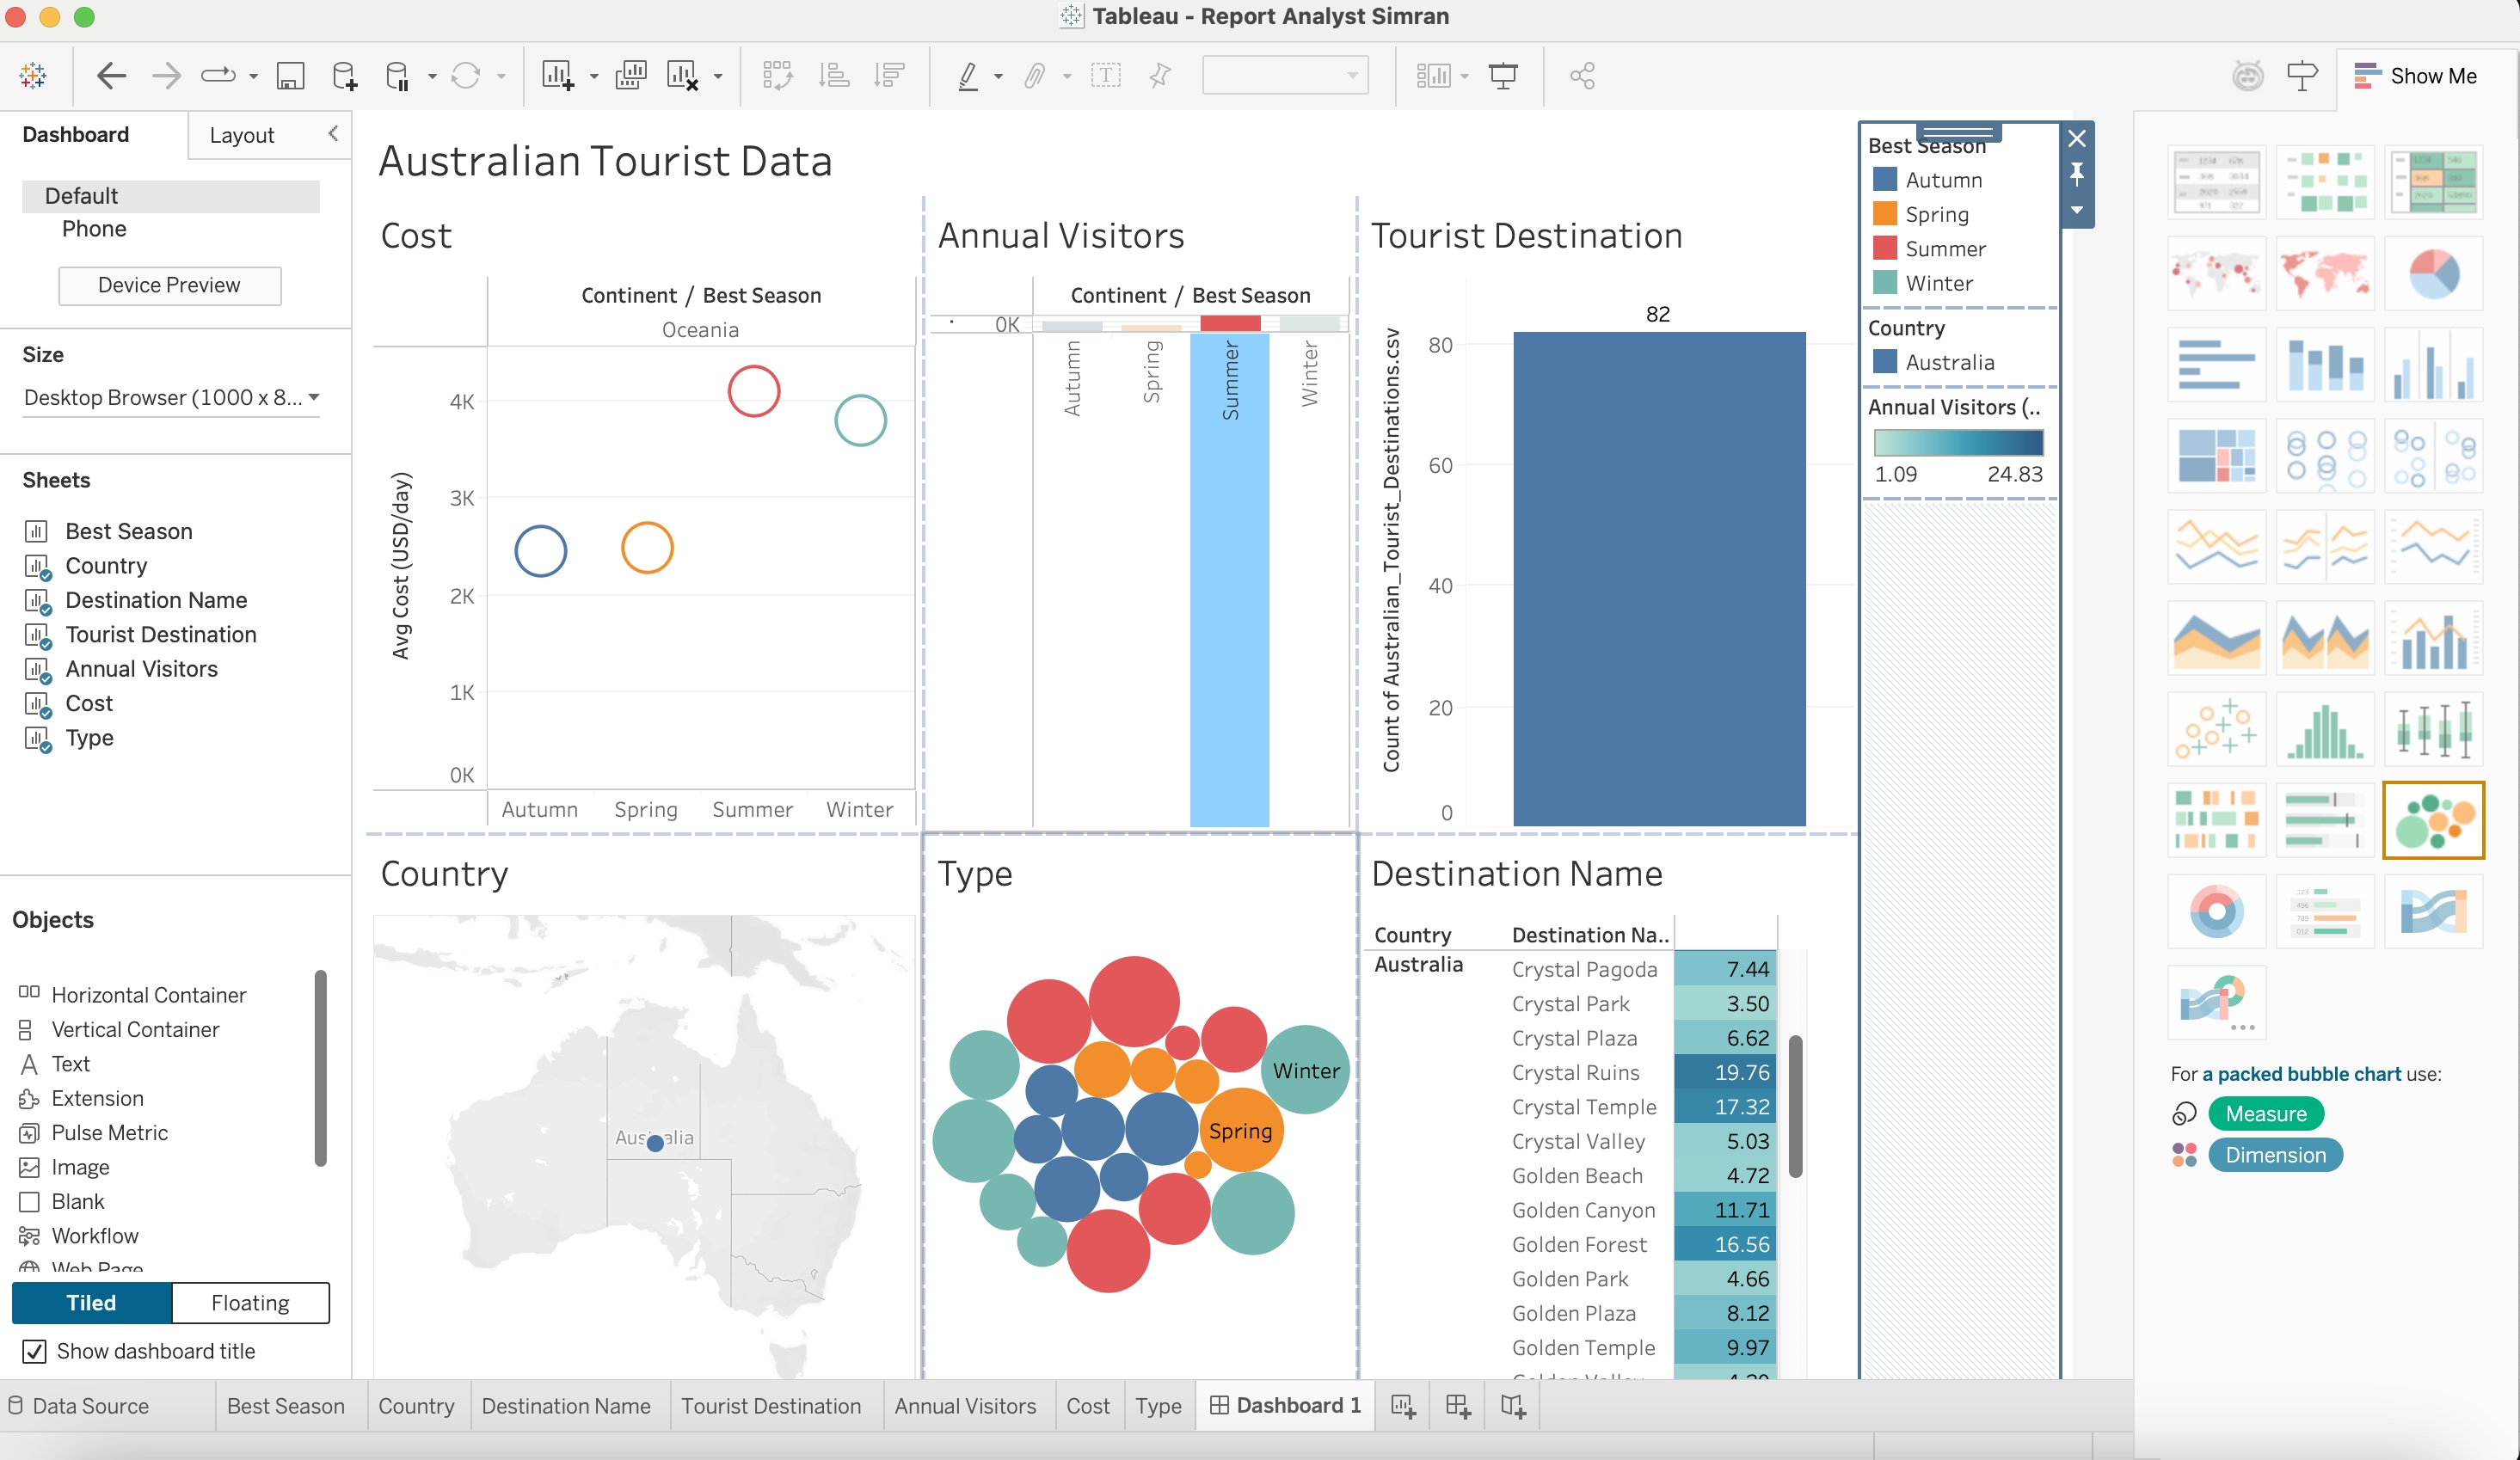

The dashboard page shown, as its layout file describes it:
{"tool":"tableau","page":{"name":"Dashboard 1","canvas":[1000,800],"ordinal":0},"visuals":[{"type":"title","box":[8,8,869,42]},{"type":"legend","title":"Cost","param":"[federated.0lczpgn17tdd761f2p9650y1xuqt].[none:Best Season:nk]","box":[877,8,115,106]},{"type":"worksheet","title":"Cost","mark":"Shape","rows":["Avg Cost (USD/day)"],"cols":["Continent","Best Season"],"box":[8,50,323.8,371]},{"type":"worksheet","title":"Annual Visitors","mark":"Automatic","rows":["Annual Visitors (M)"],"cols":["Continent","Best Season"],"box":[331.8,50,252.1,371]},{"type":"worksheet","title":"Tourist Destination","mark":"Bar","rows":["Australian_Tourist_Destinations.csv_A886F135FE0242DCB5ED3571"],"box":[583.8,50,293.2,371]},{"type":"legend","title":"Country","param":"[federated.0lczpgn17tdd761f2p9650y1xuqt].[none:Country:nk]","box":[877,114,115,46]},{"type":"legend","title":"Destination Name","param":"[federated.0lczpgn17tdd761f2p9650y1xuqt].[sum:Annual Visitors (M):qk]","box":[877,160,115,65]},{"type":"worksheet","title":"Country","mark":"Automatic","box":[8,421,323.8,371]},{"type":"worksheet","title":"Type","mark":"Circle","box":[331.8,421,252.1,371]},{"type":"worksheet","title":"Destination Name","mark":"Square","rows":["Country","Destination Name"],"box":[583.8,421,293.2,371]}]}

Visuals, with their boxes on the page's 1000x800 design canvas (x1, y1, x2, y2). These are canvas units, not pixel positions in the 2520x1460 screenshot, which may show the page scaled, cropped or inside an application window:
title: locate(8, 8, 877, 50)
"Cost" legend: locate(877, 8, 992, 114)
"Cost" worksheet (Shape marks): locate(8, 50, 332, 421)
"Annual Visitors" worksheet: locate(332, 50, 584, 421)
"Tourist Destination" worksheet (Bar marks): locate(584, 50, 877, 421)
"Country" legend: locate(877, 114, 992, 160)
"Destination Name" legend: locate(877, 160, 992, 225)
"Country" worksheet: locate(8, 421, 332, 792)
"Type" worksheet (Circle marks): locate(332, 421, 584, 792)
"Destination Name" worksheet (Square marks): locate(584, 421, 877, 792)
